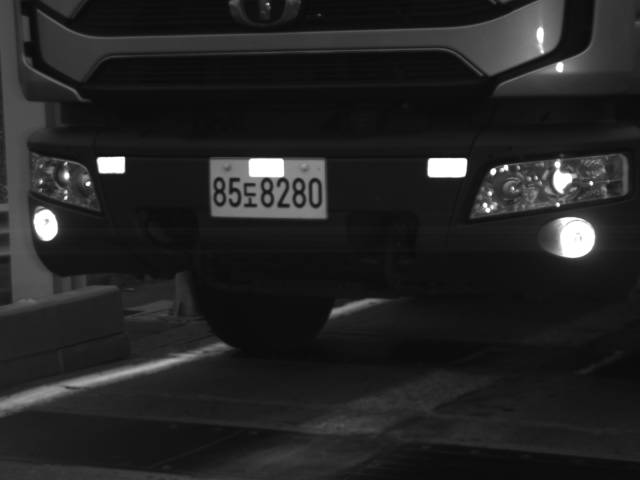car: (13, 1, 637, 357)
plate: (208, 155, 331, 221)
